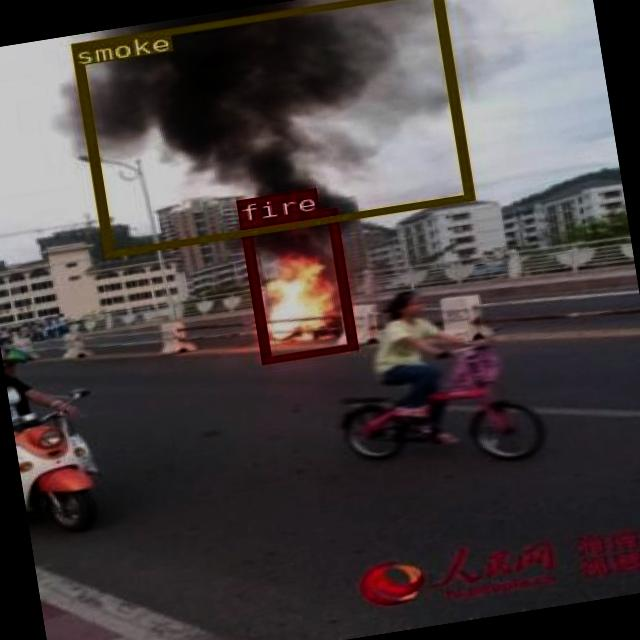fire: (239, 208, 356, 363)
smoke: (69, 0, 472, 257)
